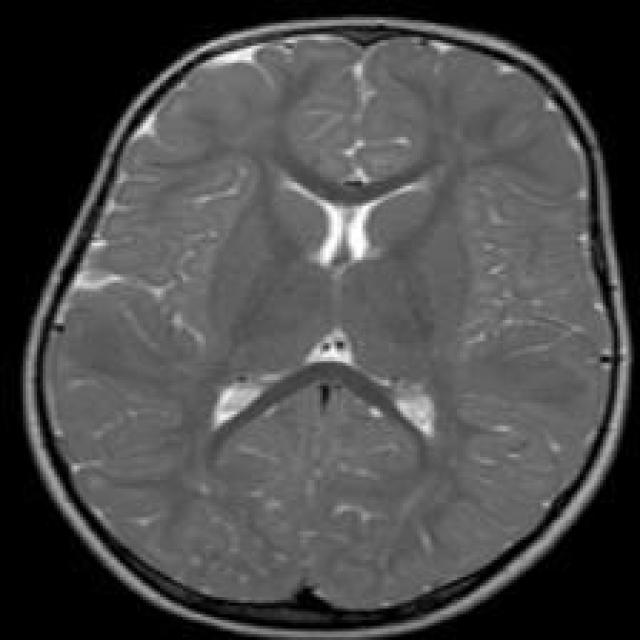no_tumor: (19, 11, 635, 635)
